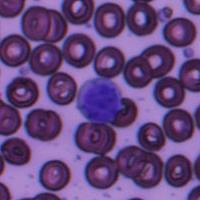L: (77, 78, 123, 124)
